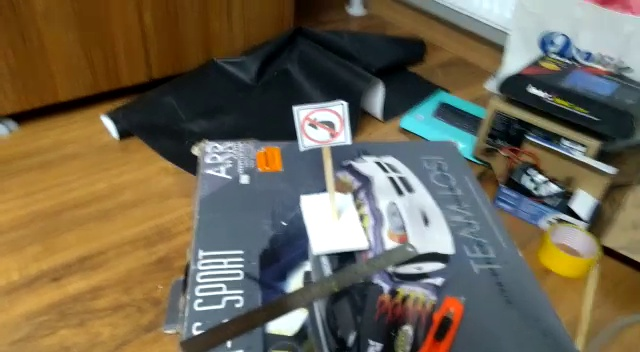sola_donulmez: (300, 98, 346, 147)
